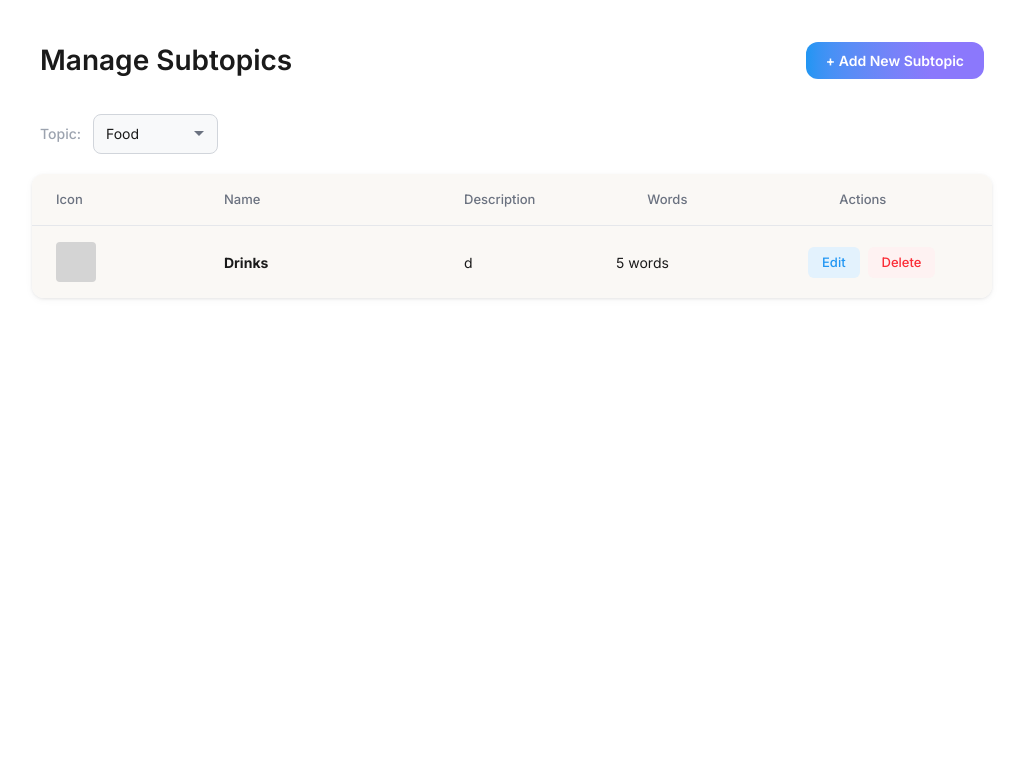
Scenario: AdminSubtopics › opens the Edit form prefilled
Check: the text "Drinks" is shown, box [224,254,268,271]
Click the button "Edit" at (834, 262), box [808,247,860,278]
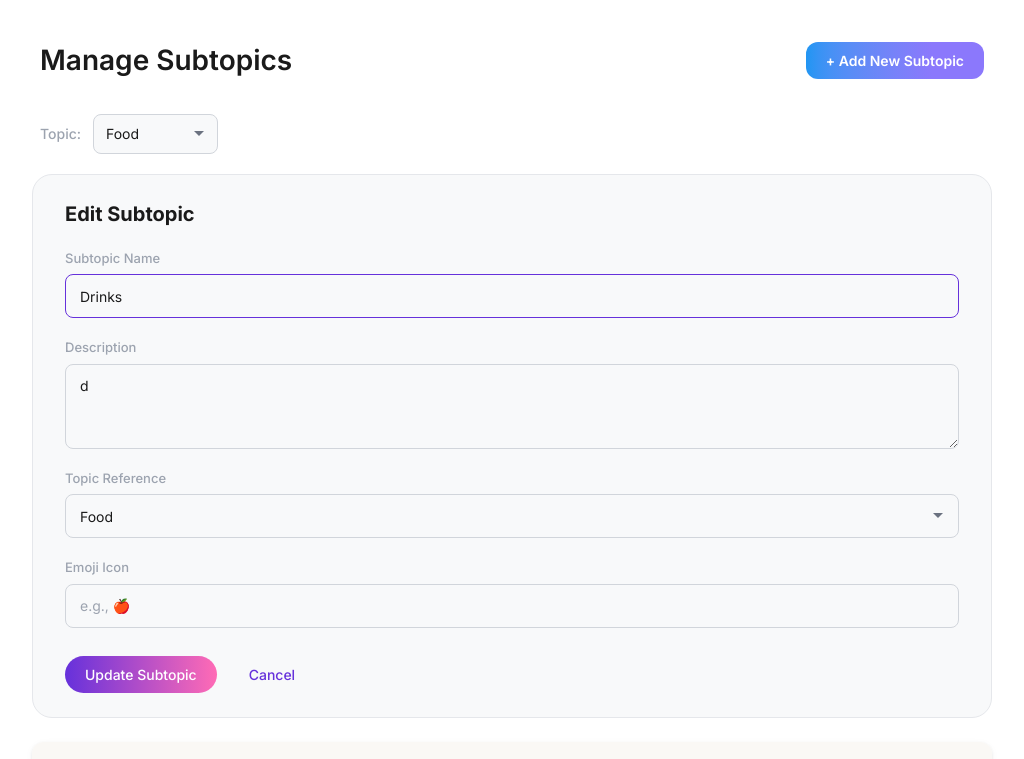
Check: the heading "Edit Subtopic" is shown, box [65,202,195,226]
